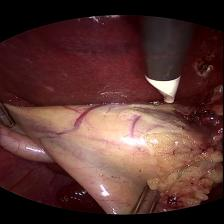Grasper: (130, 182, 166, 214), (0, 97, 18, 131)
Hook: (143, 72, 185, 106)
